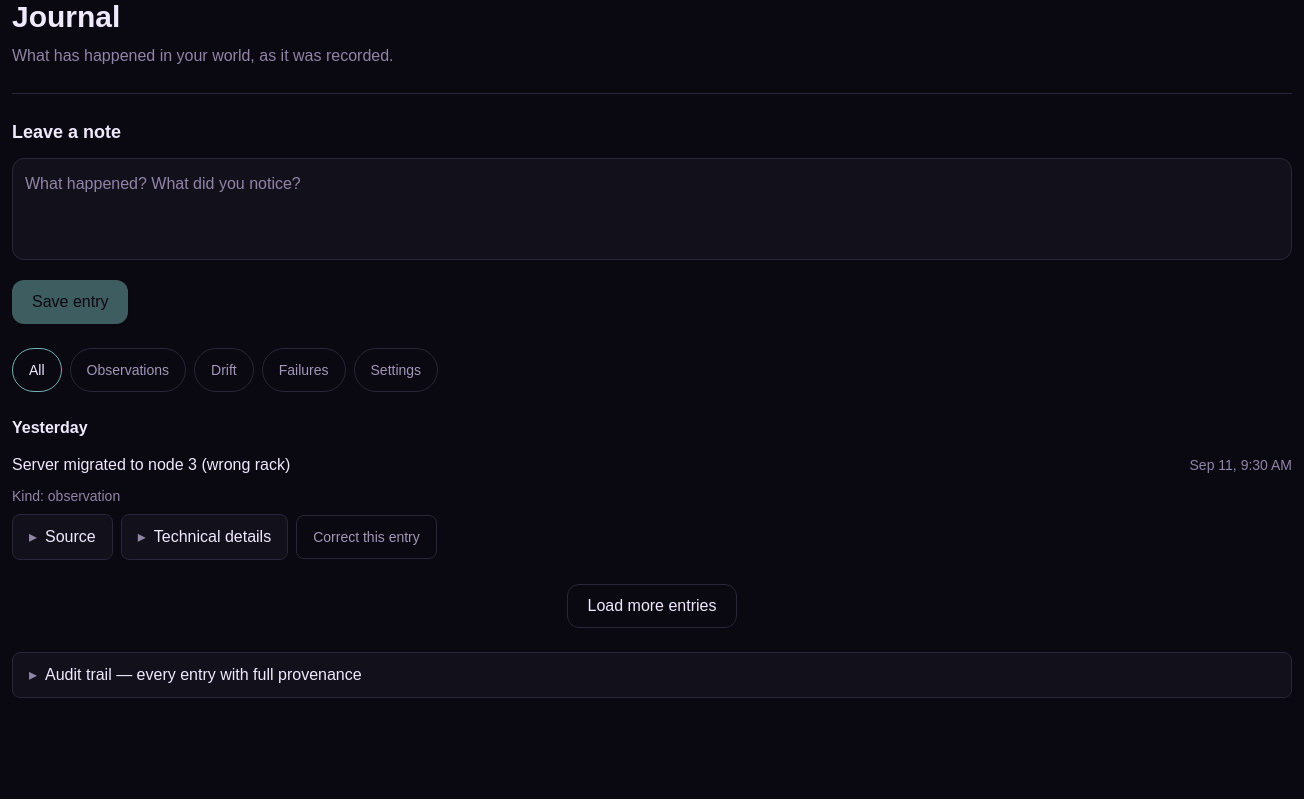
Scenario: Journal assistant-drafted correction handoff (drafting is not acting) › an ordinary correction (no draft) still says the Journal screen drafted it
Click the button "Correct this entry" at (366, 537), box left=296, top=515, right=437, bottom=559
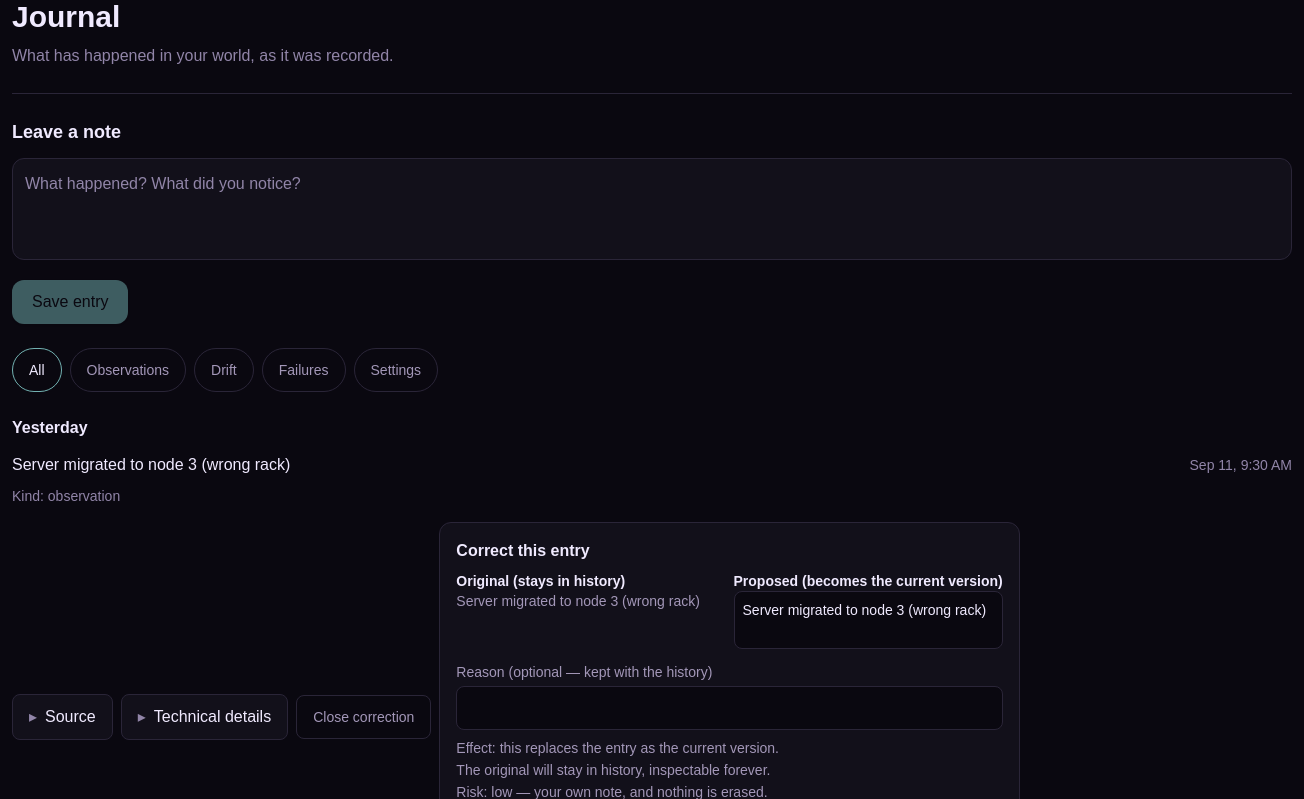
Replace the text in the text box named "Corrected entry text" with "Server migrated to node 4 (hand-written)" at (868, 620), box left=734, top=591, right=1003, bottom=649
(page scrolled)
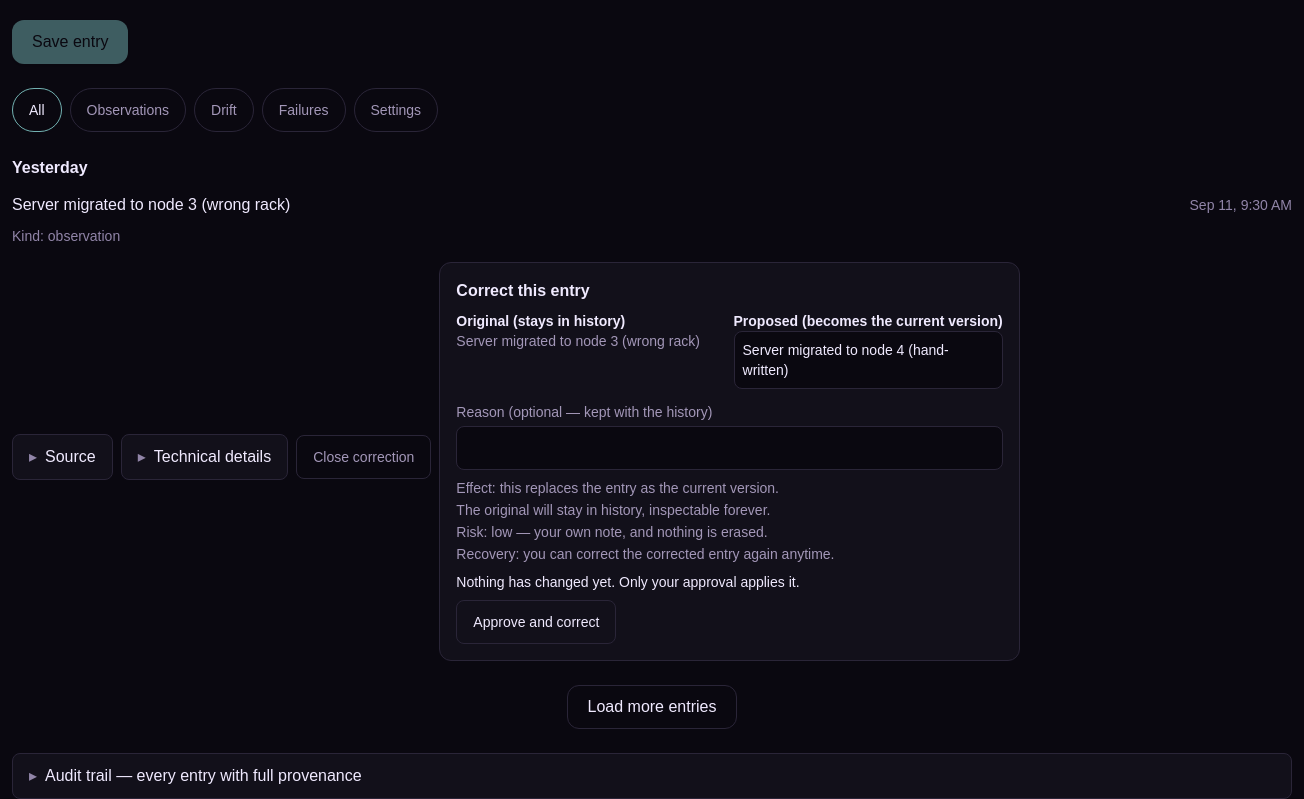
Click the button "Approve and correct" at (536, 622), box left=456, top=600, right=616, bottom=644
(page scrolled)
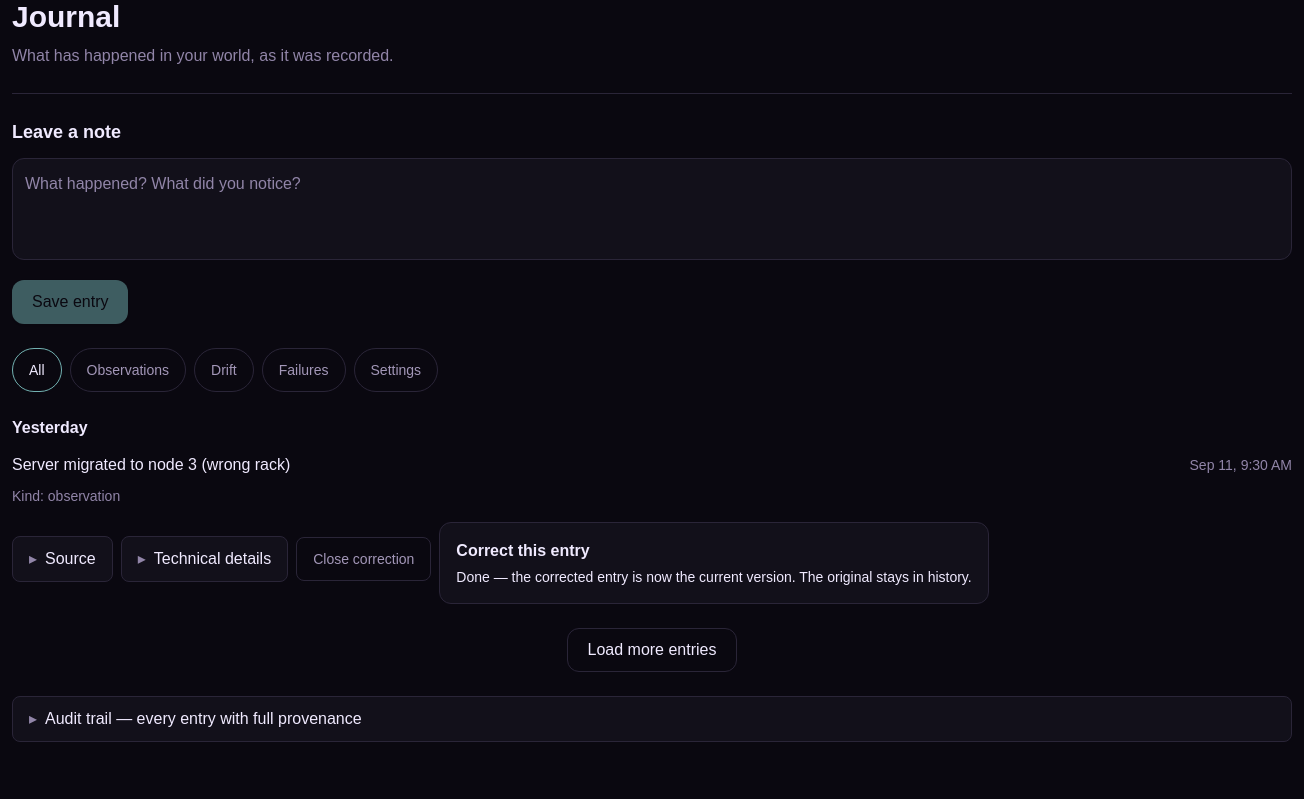
Expected: the text "Done — the corrected entry" is shown, left=456, top=569, right=972, bottom=585
